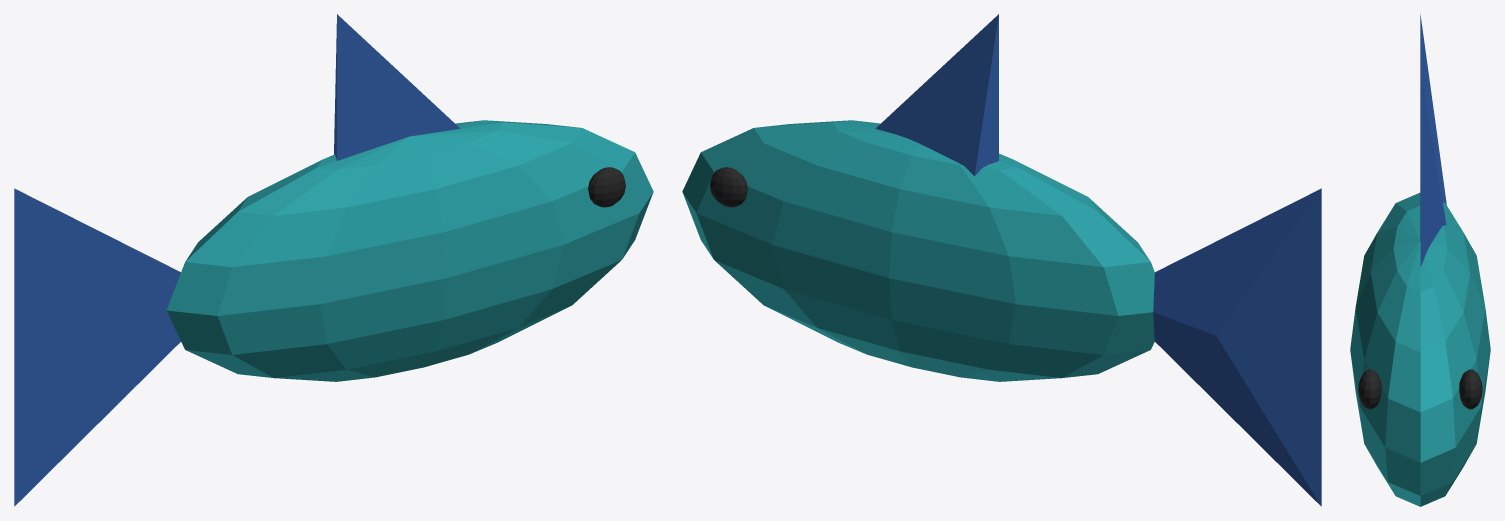
Rendered from SM_Animal_Fish.fbx.
3 views of the same model, side by side, from view 1: azimuth 30°, elevation 25°; view 2: azimuth 150°, elevation 25°; view 3: azimuth 270°, elevation 25° (orthographic). The views are drawn at different scales.
Parts seen in each view (by area): view 1: SM_Animal_Fish; view 2: SM_Animal_Fish; view 3: SM_Animal_Fish.
Boxes of the visible parts, box(x1,y1,x2,y2) form: SM_Animal_Fish: box(14, 14, 653, 506); SM_Animal_Fish: box(682, 14, 1321, 506); SM_Animal_Fish: box(1350, 14, 1490, 506).
Size of the model in its own units: 105 by 21 by 65.
